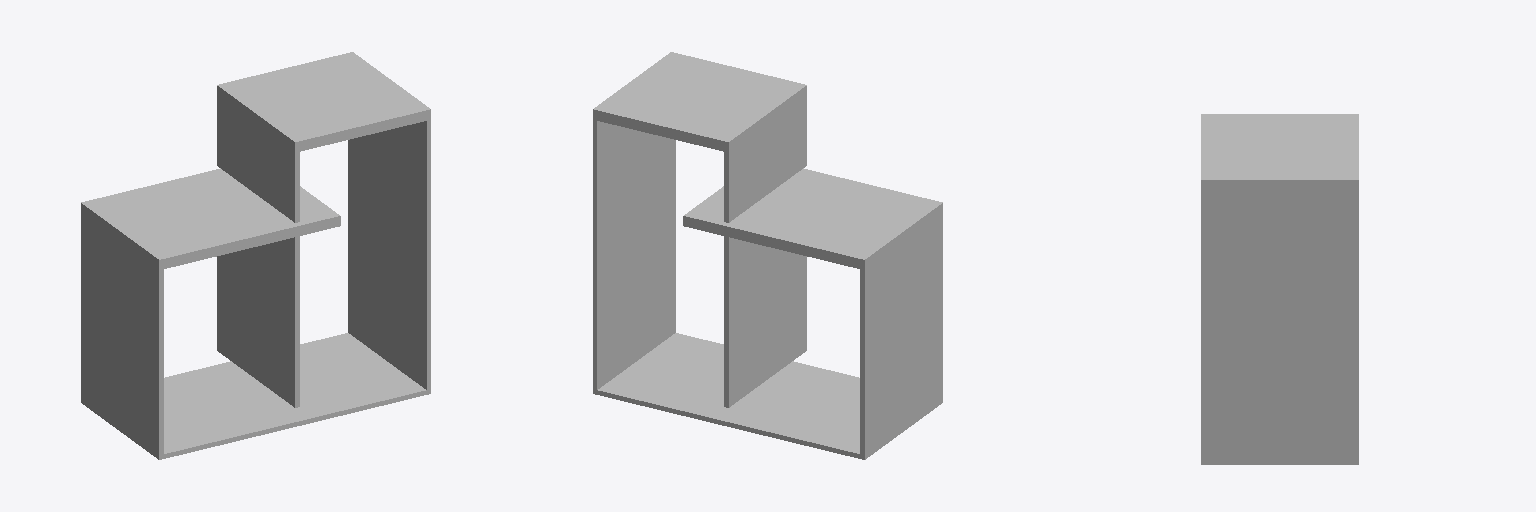
File: walls_model.obj
3 renders of one model, left to right at view 1: azimuth 30°, elevation 25°; view 2: azimuth 150°, elevation 25°; view 3: azimuth 270°, elevation 25°, orthographic.
Visible parts, largest first — view 1: product-2be8d39d-5ddc-49dc-ace4-0e31c45f7091-body, product-fd4747cb-afcf-4001-af75-f88e01b29b6e-body, product-338f8b9b-2deb-45f2-b268-a[number redacted]a16-body, product-efa72aba-c030-4dba-8d3f-6107cb9f30f2-body, product-40526b4b-35a7-43e2-a5b0-271573eb3344-body, product-6068b4c8-b6f3-44ae-ab98-a837cdf46727-body, product-0b556545-7b0d-4c18-a93f-37930c443619-body; view 2: product-2be8d39d-5ddc-49dc-ace4-0e31c45f7091-body, product-fd4747cb-afcf-4001-af75-f88e01b29b6e-body, product-338f8b9b-2deb-45f2-b268-a[number redacted]a16-body, product-efa72aba-c030-4dba-8d3f-6107cb9f30f2-body, product-40526b4b-35a7-43e2-a5b0-271573eb3344-body, product-6068b4c8-b6f3-44ae-ab98-a837cdf46727-body, product-0b556545-7b0d-4c18-a93f-37930c443619-body; view 3: product-2be8d39d-5ddc-49dc-ace4-0e31c45f7091-body, product-40526b4b-35a7-43e2-a5b0-271573eb3344-body.
Part boxes in pixels (x1,y1,x2,y2): product-2be8d39d-5ddc-49dc-ace4-0e31c45f7091-body: (348, 52, 430, 394); product-fd4747cb-afcf-4001-af75-f88e01b29b6e-body: (81, 333, 426, 459); product-338f8b9b-2deb-45f2-b268-a[number redacted]a16-body: (81, 214, 163, 454); product-efa72aba-c030-4dba-8d3f-6107cb9f30f2-body: (81, 168, 340, 269); product-40526b4b-35a7-43e2-a5b0-271573eb3344-body: (217, 53, 426, 152); product-6068b4c8-b6f3-44ae-ab98-a837cdf46727-body: (217, 236, 299, 407); product-0b556545-7b0d-4c18-a93f-37930c443619-body: (217, 96, 299, 222); product-2be8d39d-5ddc-49dc-ace4-0e31c45f7091-body: (593, 52, 675, 394); product-fd4747cb-afcf-4001-af75-f88e01b29b6e-body: (597, 333, 942, 459); product-338f8b9b-2deb-45f2-b268-a[number redacted]a16-body: (860, 214, 942, 454); product-efa72aba-c030-4dba-8d3f-6107cb9f30f2-body: (683, 168, 942, 269); product-40526b4b-35a7-43e2-a5b0-271573eb3344-body: (597, 53, 806, 152); product-6068b4c8-b6f3-44ae-ab98-a837cdf46727-body: (724, 236, 806, 407); product-0b556545-7b0d-4c18-a93f-37930c443619-body: (724, 96, 806, 222); product-2be8d39d-5ddc-49dc-ace4-0e31c45f7091-body: (1201, 178, 1358, 464); product-40526b4b-35a7-43e2-a5b0-271573eb3344-body: (1201, 114, 1358, 177).
Size of the model in its own units: 6000 by 6000 by 3000.